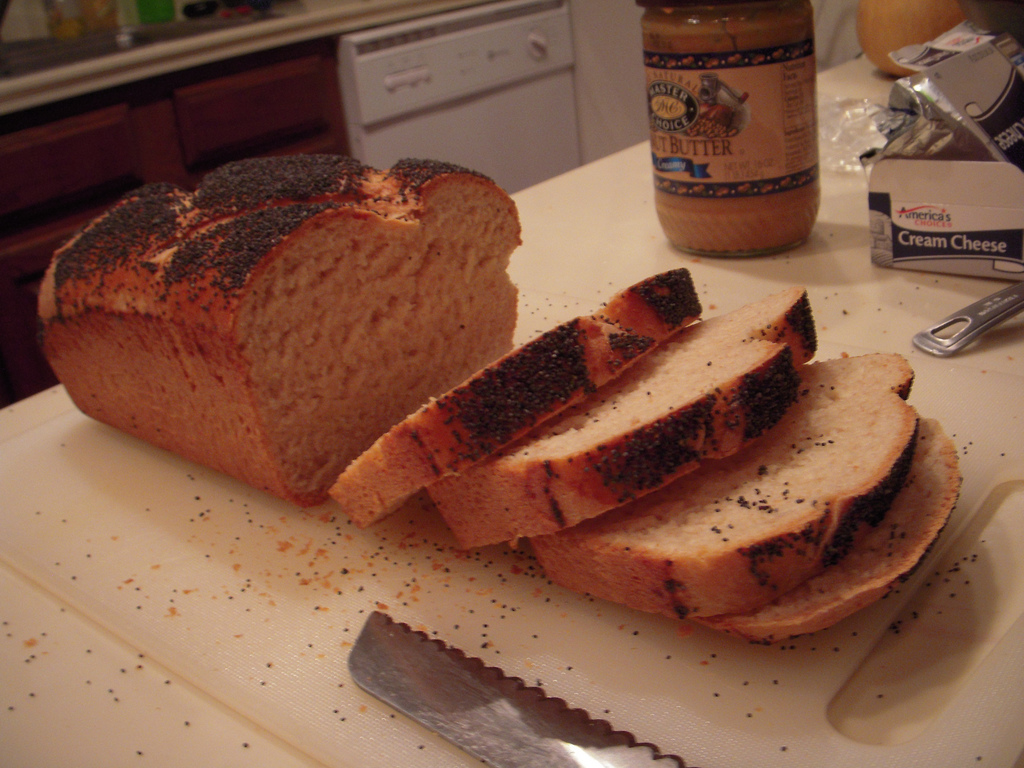slice of bread: (434, 276, 904, 617), (81, 186, 452, 458)
